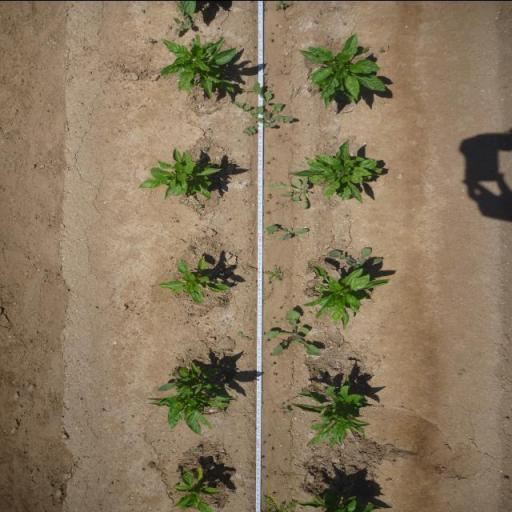plant: (296, 31, 389, 108), (144, 358, 236, 435), (288, 138, 387, 204), (301, 261, 392, 329), (292, 374, 374, 448), (158, 35, 242, 97), (135, 145, 224, 202), (156, 253, 232, 304), (173, 465, 223, 512), (297, 490, 382, 512)
weed: (227, 98, 301, 137), (266, 308, 322, 356), (263, 176, 315, 210), (327, 246, 383, 268), (170, 0, 194, 36), (251, 80, 275, 113), (264, 223, 310, 240), (260, 493, 297, 512), (263, 266, 284, 281), (274, 0, 288, 10), (236, 330, 250, 339), (146, 36, 156, 44), (282, 406, 292, 413), (265, 208, 273, 214), (196, 203, 204, 209), (377, 46, 385, 52), (202, 145, 210, 150), (194, 446, 200, 452), (176, 475, 182, 481), (266, 192, 272, 198), (268, 36, 274, 42), (343, 213, 350, 217), (176, 467, 181, 472), (270, 362, 276, 366), (270, 156, 276, 160), (341, 238, 346, 242), (266, 434, 270, 438), (269, 352, 273, 356), (264, 340, 270, 342), (317, 368, 323, 370), (270, 448, 274, 450), (266, 282, 270, 284), (184, 322, 188, 324)
